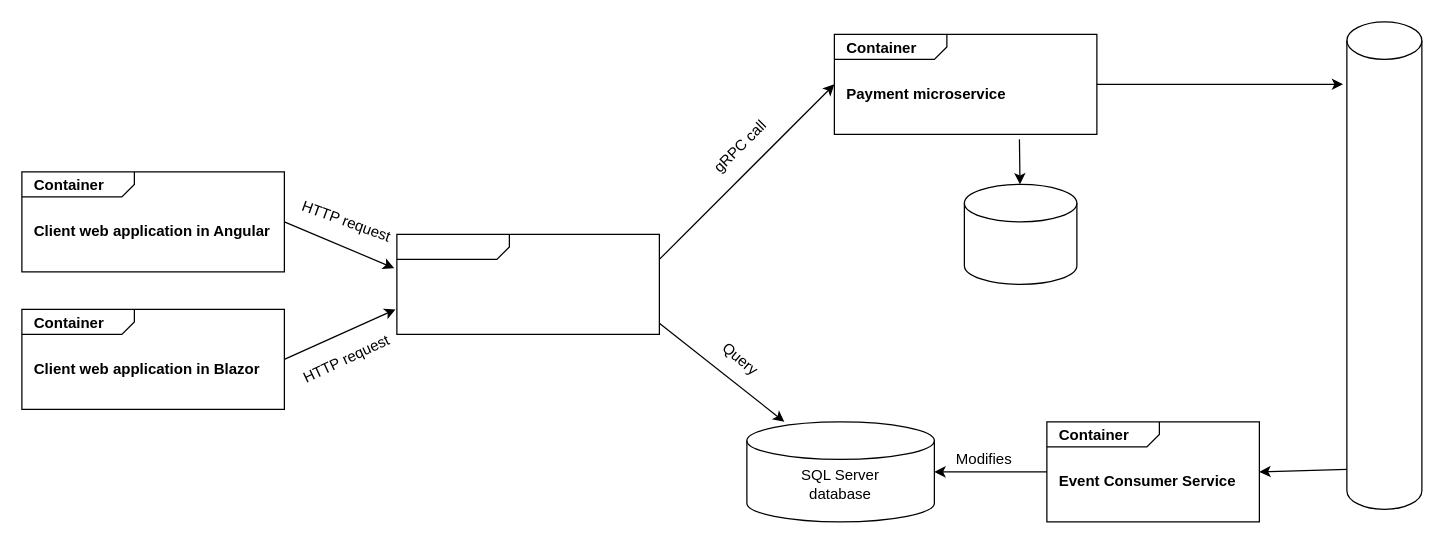
The diagram is 1444 pixels wide and 544 high, and some of its shapes have lost their labels. Here are the shapes that lost their labels. From the top down, the box of each, then its label:
(963, 183, 1077, 284): Event Store
(396, 233, 659, 334): Container API Gateway
(1346, 21, 1422, 509): EventQueue
